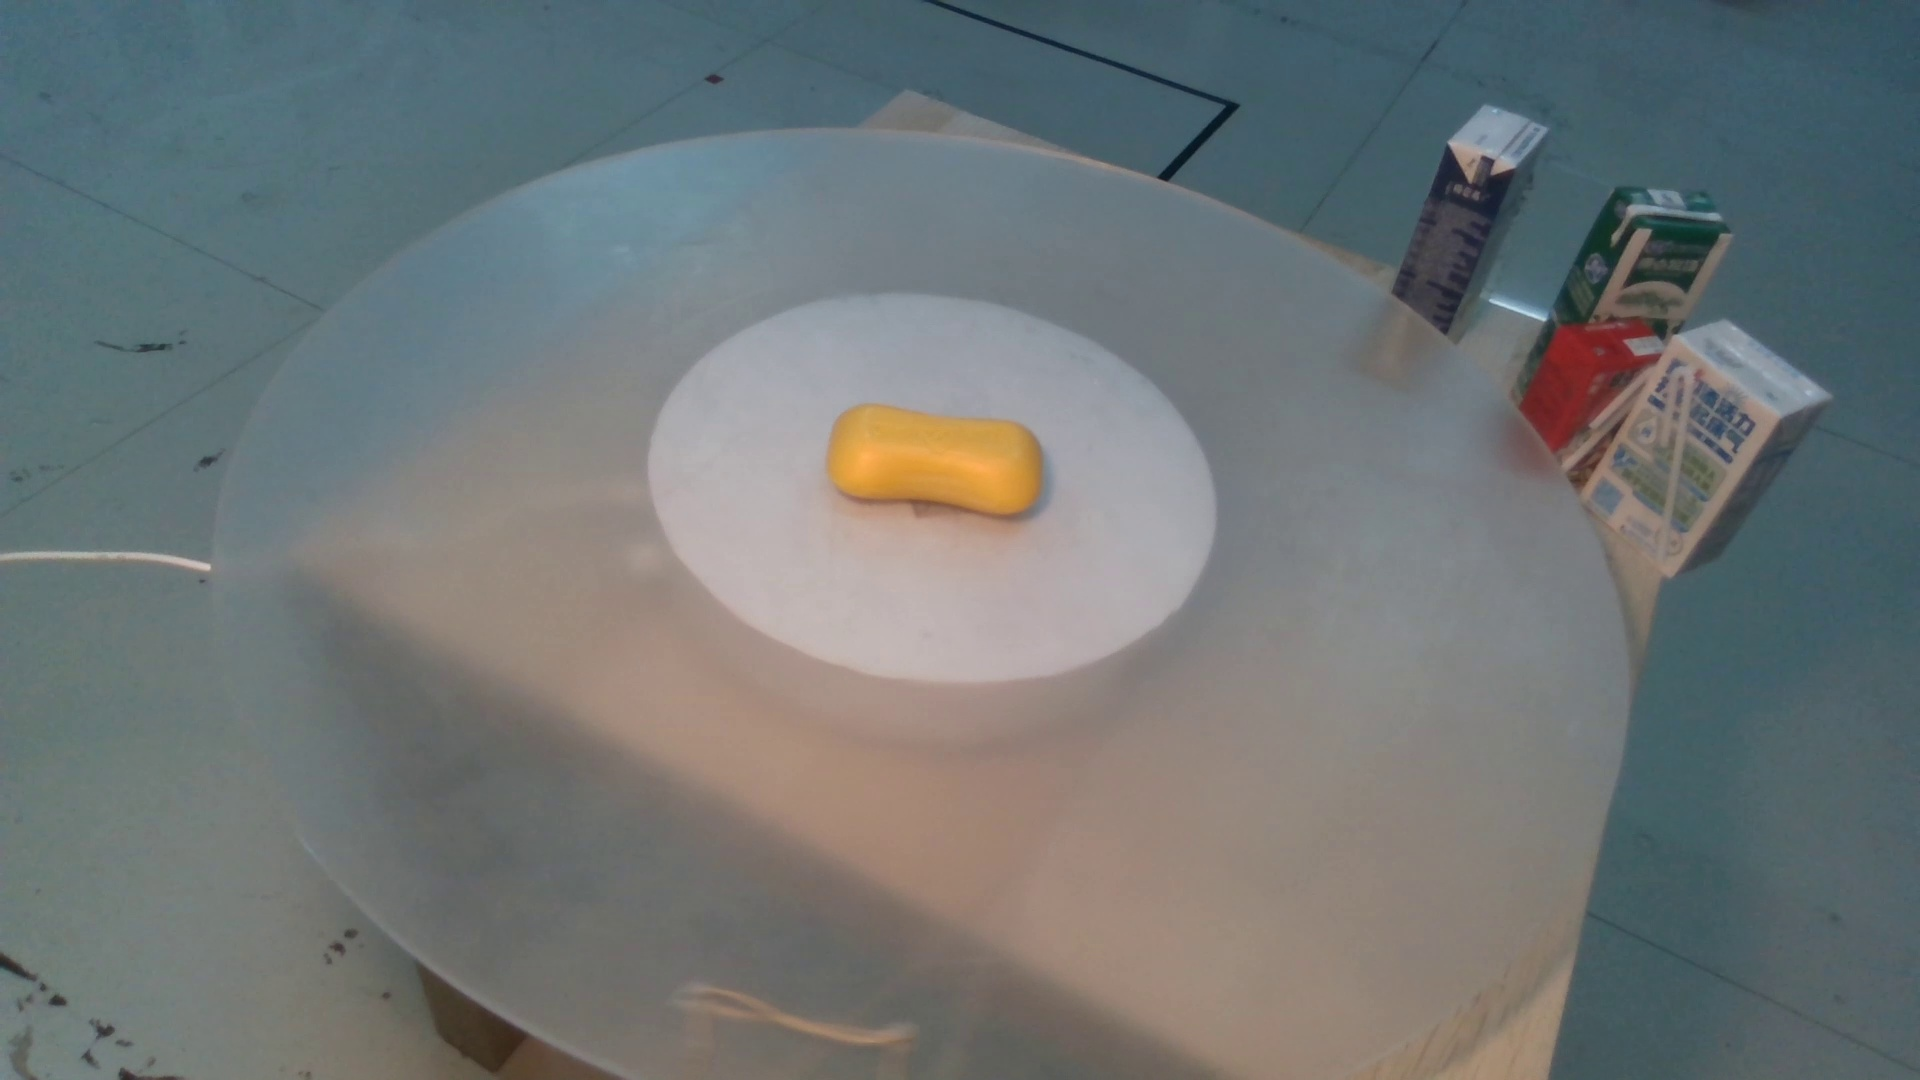CA003_1: (802, 380, 1063, 541)
